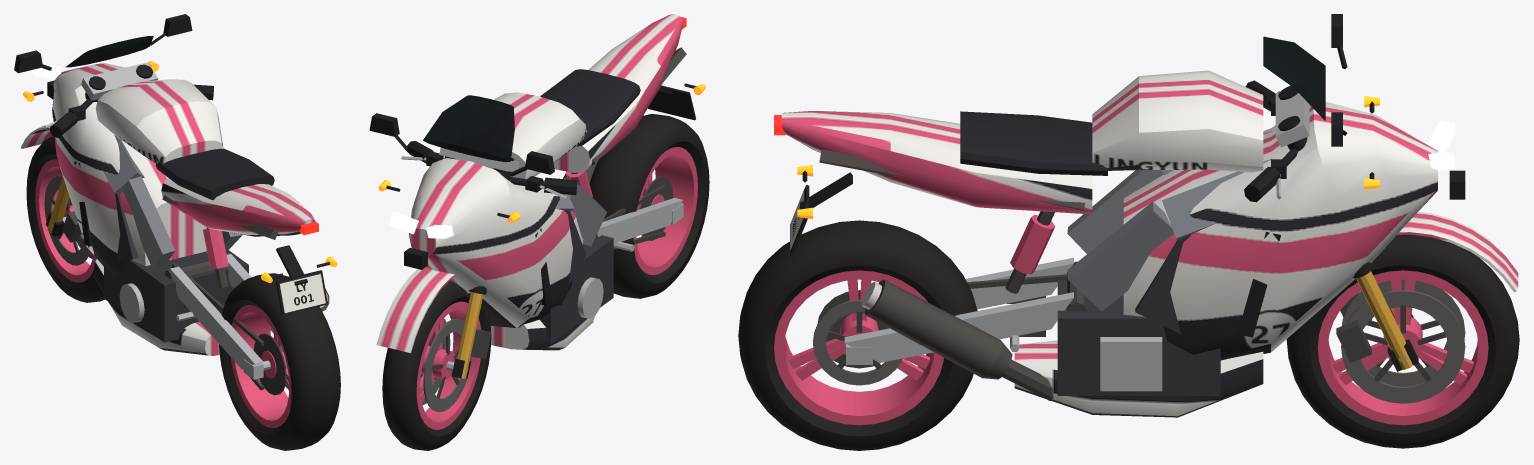
The model's file is BIKE-001_Export.fbx.
3 views of the same model, side by side, from view 1: azimuth 30°, elevation 25°; view 2: azimuth 150°, elevation 25°; view 3: azimuth 270°, elevation 25° (orthographic). The views are drawn at different scales.
Parts seen in each view (by area): view 1: BIKE-001_Body, BIKE-001_Frame, BIKE-001_Wheel_R_Tire, BIKE-001_Wheel_R_Rim, BIKE-001_Fork, BIKE-001_Wheel_F_Rim, BIKE-001_Wheel_F_Tire, BIKE-001_Glass, BIKE-001_Lights; view 2: BIKE-001_Body, BIKE-001_Frame, BIKE-001_Wheel_R_Tire, BIKE-001_Fork, BIKE-001_Wheel_F_Tire, BIKE-001_Wheel_F_Rim, BIKE-001_Wheel_R_Rim, BIKE-001_Glass, BIKE-001_Lights; view 3: BIKE-001_Body, BIKE-001_Frame, BIKE-001_Wheel_R_Tire, BIKE-001_Wheel_F_Rim, BIKE-001_Wheel_F_Tire, BIKE-001_Wheel_R_Rim, BIKE-001_Fork, BIKE-001_Glass, BIKE-001_Lights.
Boxes of the visible parts, x1,y1,x2,y2 form: BIKE-001_Body: (52,63,315,355); BIKE-001_Frame: (14,14,329,390); BIKE-001_Wheel_R_Tire: (219,273,340,450); BIKE-001_Wheel_R_Rim: (231,305,291,428); BIKE-001_Fork: (21,62,213,242); BIKE-001_Wheel_F_Rim: (35,159,96,282); BIKE-001_Wheel_F_Tire: (26,136,104,302); BIKE-001_Glass: (65,36,153,67); BIKE-001_Lights: (23,50,337,282); BIKE-001_Body: (409,14,683,350); BIKE-001_Frame: (369,47,695,343); BIKE-001_Wheel_R_Tire: (589,114,709,298); BIKE-001_Fork: (376,141,577,378); BIKE-001_Wheel_F_Tire: (382,281,491,450); BIKE-001_Wheel_F_Rim: (416,301,481,429); BIKE-001_Wheel_R_Rim: (633,147,697,275); BIKE-001_Glass: (423,95,514,162); BIKE-001_Lights: (378,17,705,238); BIKE-001_Body: (781,70,1437,417); BIKE-001_Frame: (790,14,1465,401); BIKE-001_Wheel_R_Tire: (738,220,977,450); BIKE-001_Wheel_F_Rim: (1317,270,1488,425); BIKE-001_Wheel_F_Tire: (1286,234,1519,448); BIKE-001_Wheel_R_Rim: (774,270,943,425); BIKE-001_Fork: (1244,80,1518,371); BIKE-001_Glass: (1263,36,1325,120); BIKE-001_Lights: (774,96,1455,219).
Bounding box in the file's own units: 0.7 × 1.13 × 2.01.
Materials: 18 (2 with a texture image).
